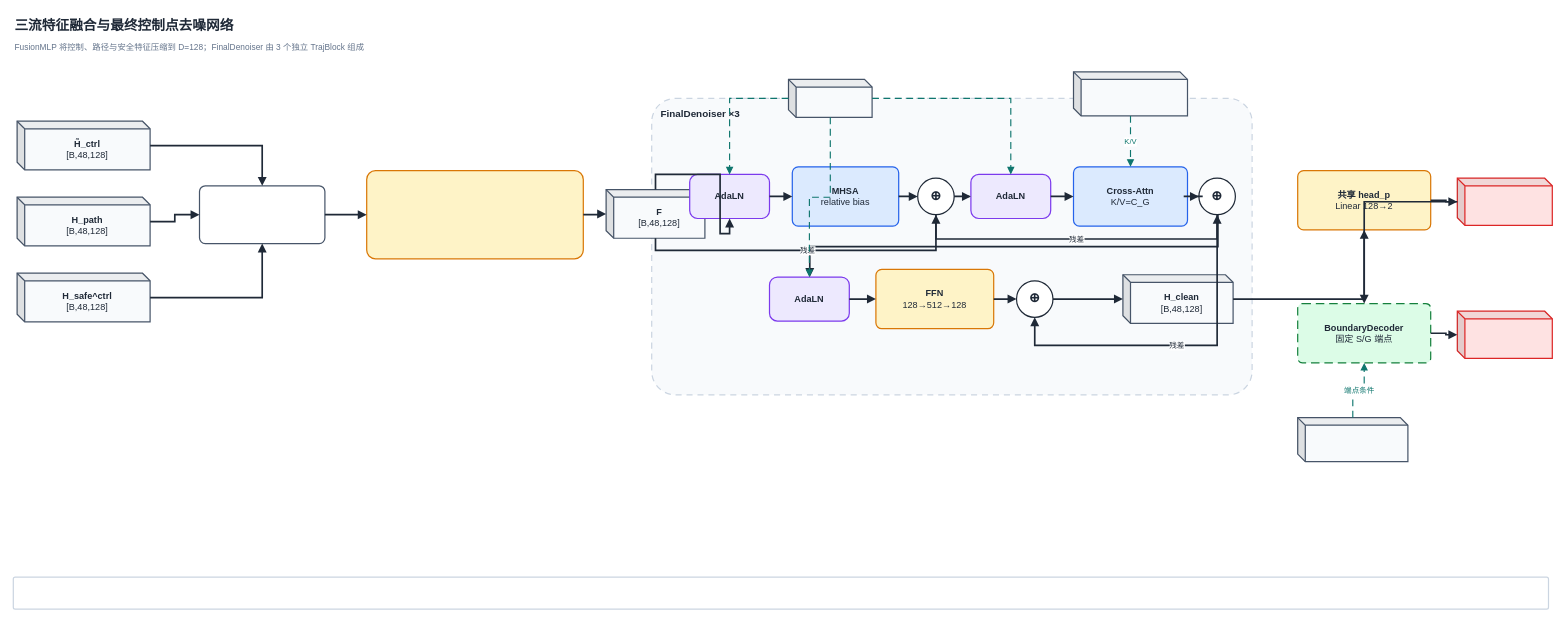
This 1566x622 diagram has some shape labels left out. The centre of each missing label's shape, as x and y in pixels:
C_G [B,256,128]: the point at 1130,93
Concat [B,48,384]: the point at 262,214
FusionMLP LN(3D) → 3D→2D → GELU → 2D→D: the point at 475,214
h_t: the point at 830,98
Q* [B,48,2]: the point at 1504,334
Q_raw [B,48,2]: the point at 1504,201
S, G [B,2,2]: the point at 1352,439
统一标记 ▱ 张量 ■ 注意力 ■ AdaLN ■ MLP/投影 □ 固定算子 ┄ 条件注入 ┄ 跨步反馈: the point at 780,592
